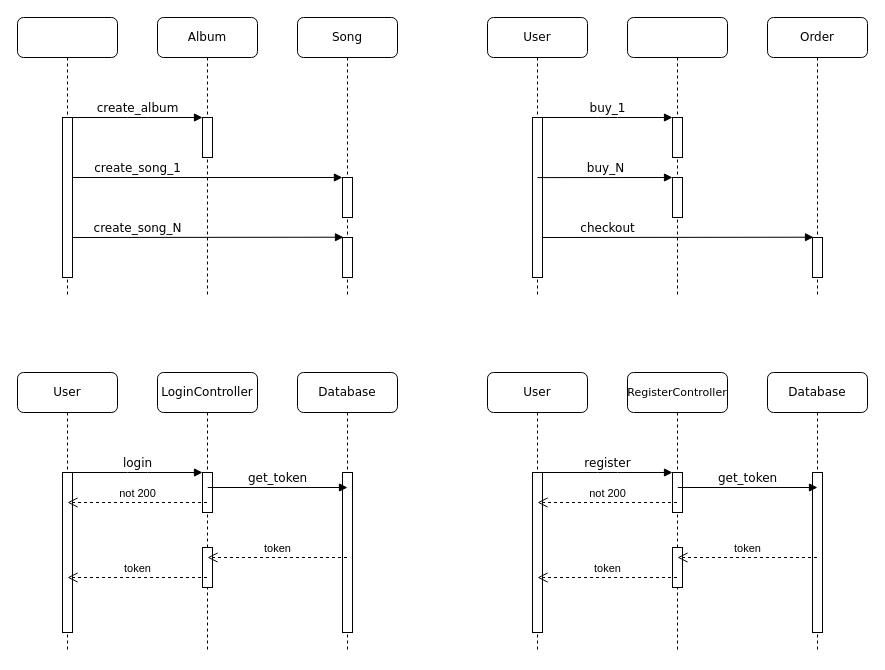
The diagram is 885 pixels wide and 670 high, and some of its shapes have lost their labels. The shapes that lost their labels are listed below. From the top down, each one's box as (x1, y1, x2, y2) in pixels, then its label:
(16, 16, 118, 298): Artist
(626, 16, 728, 298): OrderItem
